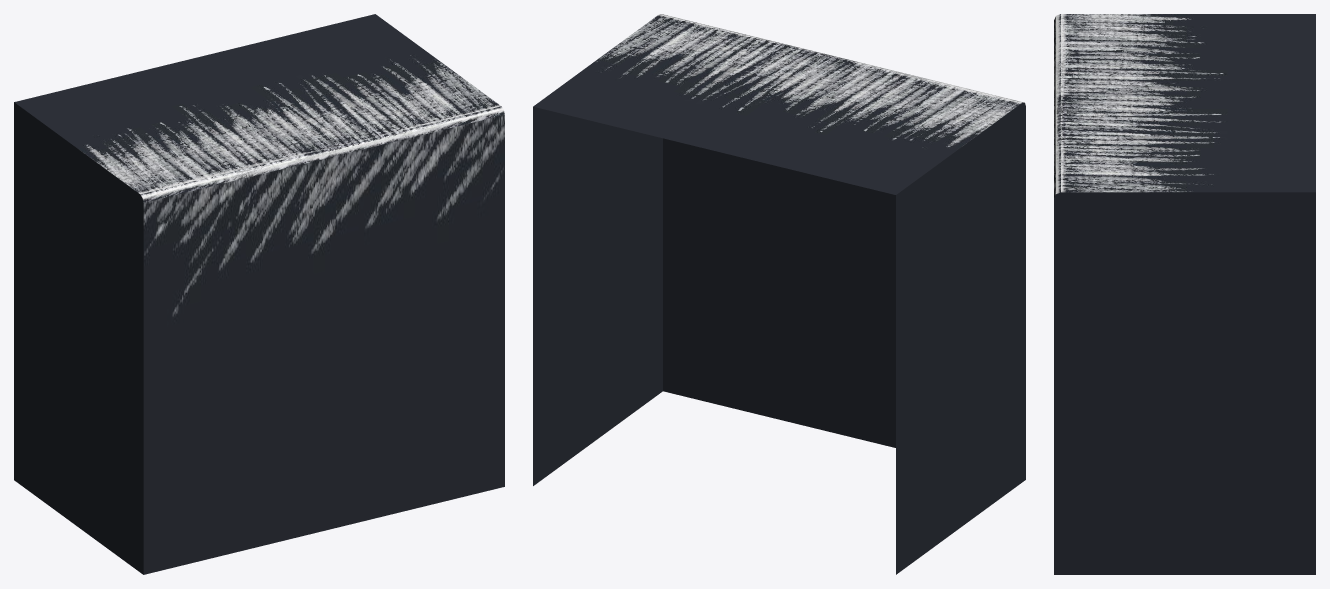
File: Ground1.fbx
3 renders of one model, left to right at view 1: azimuth 30°, elevation 25°; view 2: azimuth 150°, elevation 25°; view 3: azimuth 270°, elevation 25°, orthographic.
Visible parts, largest first — view 1: Ground1; view 2: Ground1; view 3: Ground1.
Boxes of the visible parts, x1=… form: Ground1: x1=14, y1=14, x2=504, y2=574; Ground1: x1=533, y1=14, x2=1025, y2=574; Ground1: x1=1054, y1=14, x2=1315, y2=574.
Bounding box in the file's own units: 2 × 2 × 1.24.
